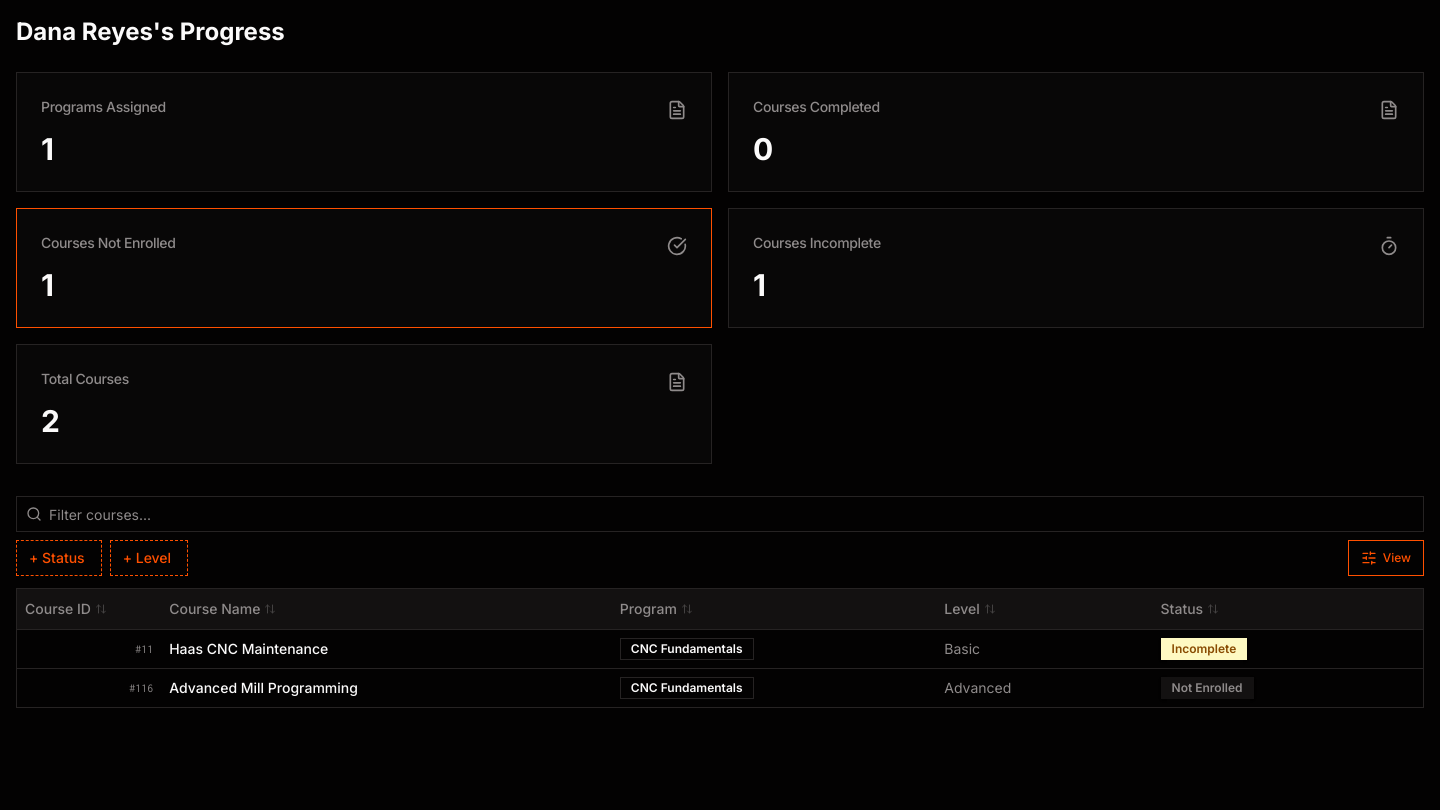
Test: StudentProgressView table › narrows rows by search text
The image size is (1440, 810).
Expected: the text "Haas CNC Maintenance" is shown, [161,629,612,668]
Type "mill" into the field with placeholder "Filter courses..." at (720, 514), box [16,496,1424,532]
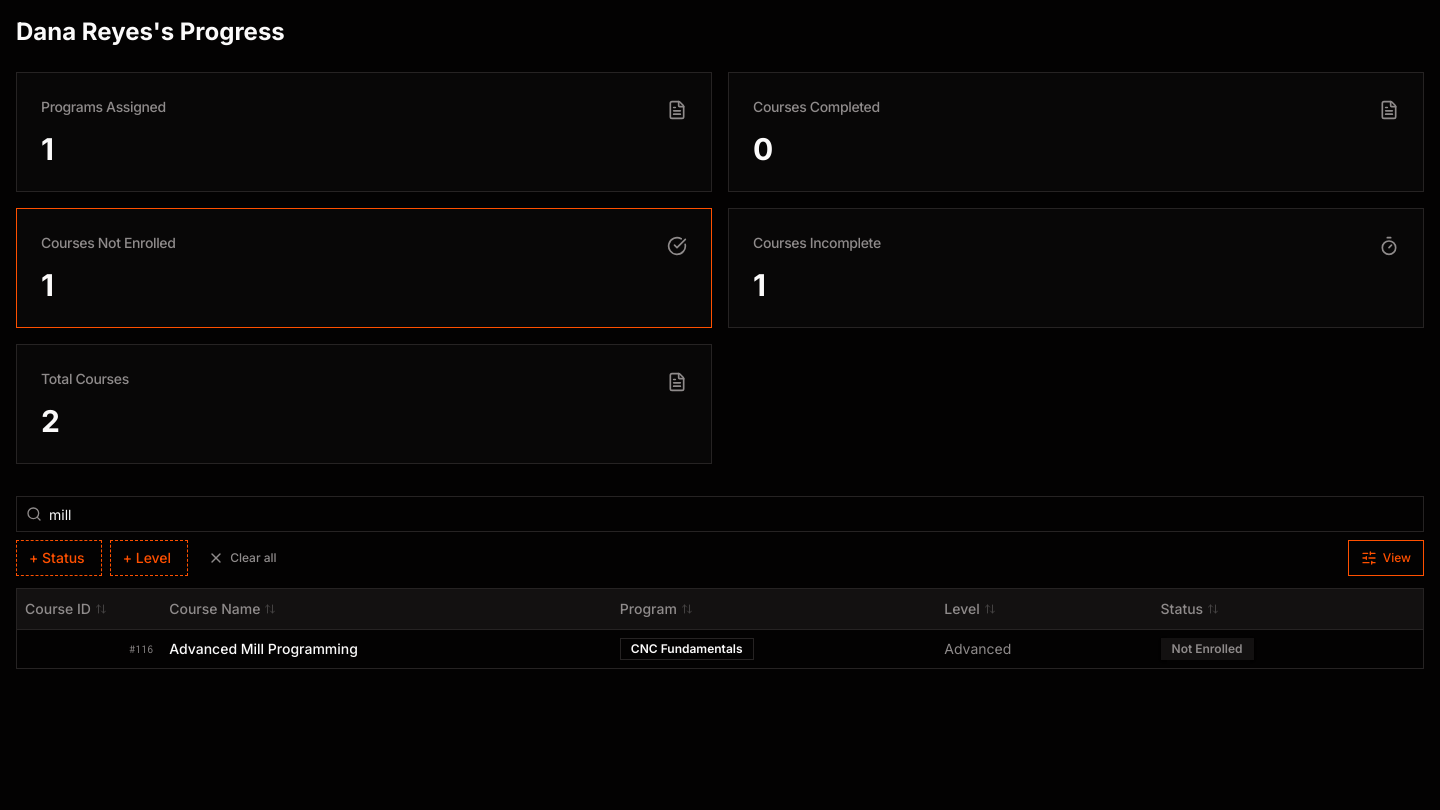
Expected: the text "Advanced Mill Programming" is shown, [161,629,612,668]
Now the text "Haas CNC Maintenance" is gone
